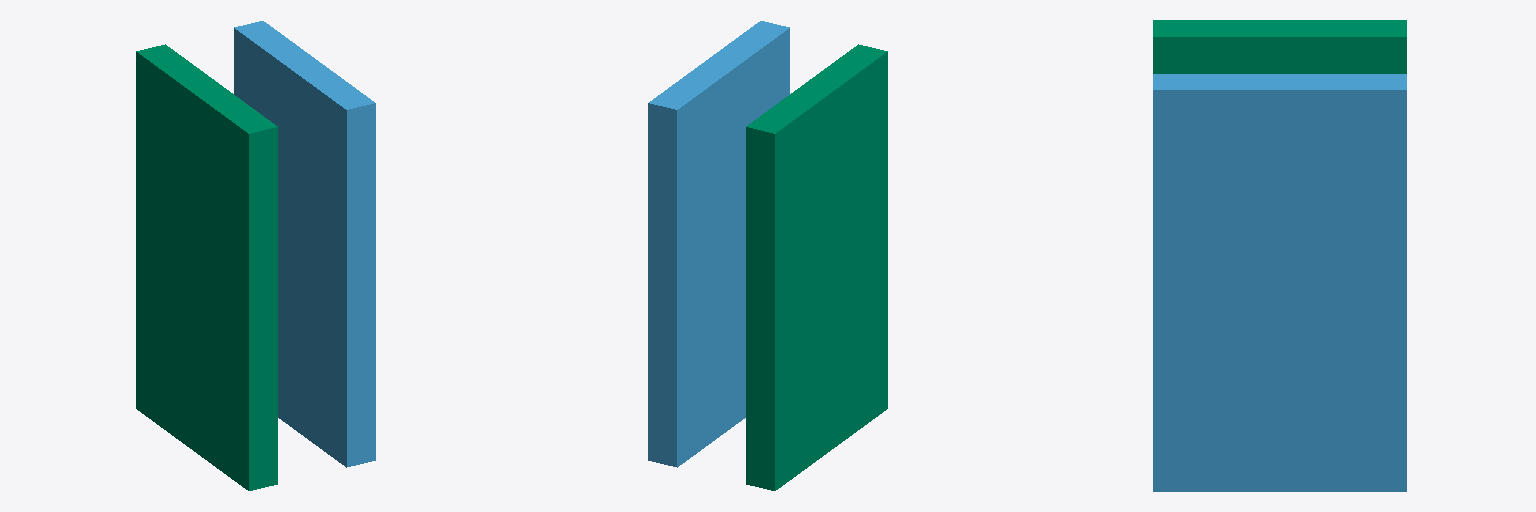
The robot description file, URDF, robot "tactile_gripper_example":
<?xml version="1.0"?>
<robot name="tactile_gripper_example">
  <link name="base">
    <inertial>
      <origin xyz="0 0 0" rpy="0 0 0"/>
      <mass value="1.0"/>
      <inertia ixx="0.001" ixy="0" ixz="0" iyy="0.001" iyz="0" izz="0.001"/>
    </inertial>
  </link>

  <link name="left_tactile_pad">
    <inertial>
      <origin xyz="0 0 0" rpy="0 0 0"/>
      <mass value="0.05"/>
      <inertia ixx="0.00001" ixy="0" ixz="0" iyy="0.00001" iyz="0" izz="0.00001"/>
    </inertial>
    <collision>
      <origin xyz="0 0 0" rpy="0 0 0"/>
      <geometry>
        <box size="0.012 0.08 0.14"/>
      </geometry>
    </collision>
    <visual>
      <origin xyz="0 0 0" rpy="0 0 0"/>
      <geometry>
        <box size="0.012 0.08 0.14"/>
      </geometry>
    </visual>
  </link>

  <joint name="base_to_left_tactile_pad" type="fixed">
    <parent link="base"/>
    <child link="left_tactile_pad"/>
    <origin xyz="0.02 0 0" rpy="0 0 0"/>
  </joint>

  <link name="right_tactile_pad">
    <inertial>
      <origin xyz="0 0 0" rpy="0 0 0"/>
      <mass value="0.05"/>
      <inertia ixx="0.00001" ixy="0" ixz="0" iyy="0.00001" iyz="0" izz="0.00001"/>
    </inertial>
    <collision>
      <origin xyz="0 0 0" rpy="0 0 0"/>
      <geometry>
        <box size="0.012 0.08 0.14"/>
      </geometry>
    </collision>
    <visual>
      <origin xyz="0 0 0" rpy="0 0 0"/>
      <geometry>
        <box size="0.012 0.08 0.14"/>
      </geometry>
    </visual>
  </link>

  <joint name="base_to_right_tactile_pad" type="fixed">
    <parent link="base"/>
    <child link="right_tactile_pad"/>
    <origin xyz="-0.02 0 0" rpy="0 0 0"/>
  </joint>
</robot>

--- Render facts (derived) ---
The picture shows the robot from 3 angles, left to right: view 1: azimuth 30°, elevation 25°; view 2: azimuth 150°, elevation 25°; view 3: azimuth 270°, elevation 25°; orthographic projection.
Model tactile_gripper_example with 3 links and 2 joints (2 fixed), rooted at base, posed all joints at 0.
Visible links, largest first — view 1: right_tactile_pad, left_tactile_pad; view 2: right_tactile_pad, left_tactile_pad; view 3: left_tactile_pad, right_tactile_pad.
Boxes of the visible links, x1,y1,x2,y2 form: right_tactile_pad: (136, 44, 277, 490); left_tactile_pad: (234, 21, 375, 467); right_tactile_pad: (746, 44, 887, 490); left_tactile_pad: (648, 21, 789, 467); left_tactile_pad: (1153, 74, 1406, 491); right_tactile_pad: (1153, 20, 1406, 73).
Size in the robot's own frame: 0.052 by 0.08 by 0.14 metres.
Geometry: primitives only (box / cylinder / sphere), no mesh files.
